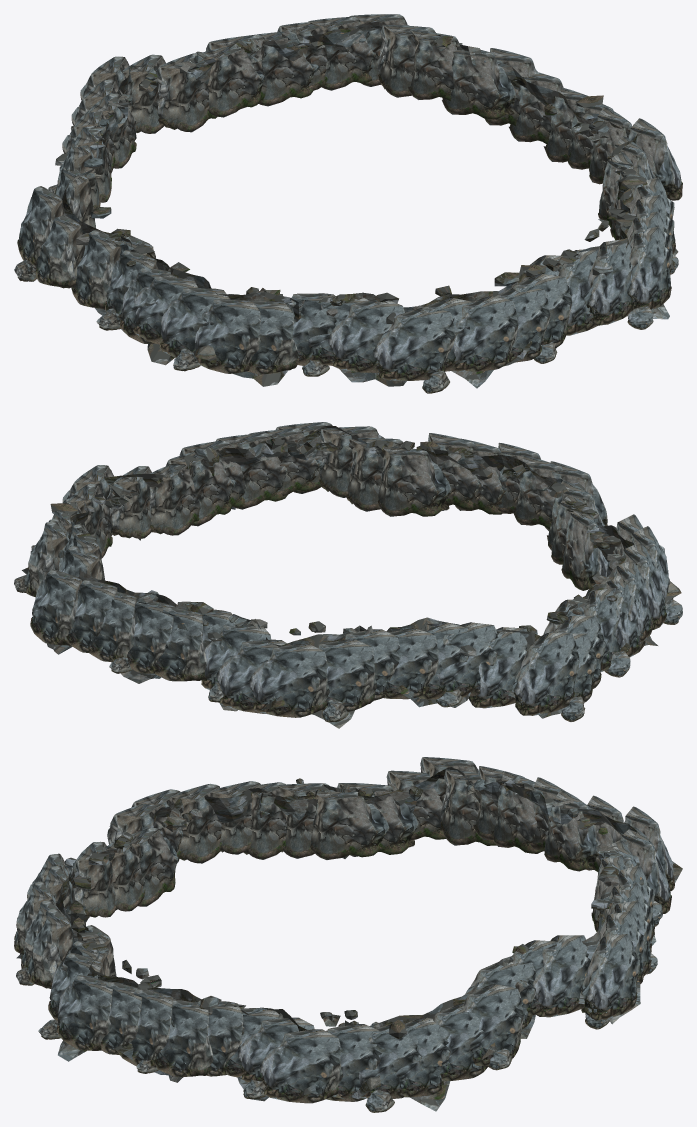
Rendered from ValoriaScannedCliffCandidate.glb.
3 renders of one model, top to bottom at view 1: azimuth 30°, elevation 25°; view 2: azimuth 150°, elevation 25°; view 3: azimuth 270°, elevation 25°, orthographic. The views are drawn at different scales.
Parts seen in each view (by area): view 1: Buried continuous cliff contact receiver - existing geometry, CC0 directed cliff course 36, CC0 directed cliff course 38, CC0 directed cliff course 31, CC0 directed cliff course 05, CC0 directed cliff course 35, CC0 directed cliff course 13, CC0 directed cliff course 14, CC0 directed cliff course 43, CC0 directed cliff course 44, CC0 directed cliff course 32, CC0 directed cliff course 30 (+38 smaller); view 2: Buried continuous cliff contact receiver - existing geometry, CC0 directed cliff course 16, CC0 directed cliff course 23, CC0 directed cliff course 41, CC0 directed cliff course 17, CC0 directed cliff course 08, CC0 directed cliff course 12, CC0 directed cliff course 49, CC0 directed cliff course 22, CC0 directed cliff course 19, CC0 directed cliff course 21, CC0 directed cliff course 15 (+36 smaller); view 3: Buried continuous cliff contact receiver - existing geometry, CC0 directed cliff course 51, CC0 directed cliff course 26, CC0 directed cliff course 08, CC0 directed cliff course 07, CC0 directed cliff course 04, CC0 directed cliff course 44, CC0 directed cliff course 47, CC0 directed cliff course 02, CC0 directed cliff course 18, CC0 directed cliff course 30, CC0 directed cliff course 22 (+37 smaller).
Boxes of the visible parts, x1,y1,x2,y2 form: Buried continuous cliff contact receiver - existing geometry: (36, 22, 679, 388); CC0 directed cliff course 36: (373, 308, 455, 380); CC0 directed cliff course 38: (452, 296, 518, 371); CC0 directed cliff course 31: (195, 299, 260, 373); CC0 directed cliff course 05: (442, 49, 515, 119); CC0 directed cliff course 35: (328, 299, 404, 372); CC0 directed cliff course 13: (194, 46, 265, 117); CC0 directed cliff course 14: (155, 53, 217, 132); CC0 directed cliff course 43: (584, 239, 635, 325); CC0 directed cliff course 44: (627, 226, 672, 310); CC0 directed cliff course 32: (247, 300, 298, 374); CC0 directed cliff course 30: (159, 287, 229, 357); Buried continuous cliff contact receiver - existing geometry: (22, 426, 681, 728); CC0 directed cliff course 16: (249, 644, 329, 717); CC0 directed cliff course 23: (512, 632, 579, 715); CC0 directed cliff course 41: (377, 446, 451, 516); CC0 directed cliff course 17: (318, 639, 376, 711); CC0 directed cliff course 08: (30, 569, 81, 645); CC0 directed cliff course 12: (154, 606, 206, 681); CC0 directed cliff course 49: (149, 463, 200, 535); CC0 directed cliff course 22: (468, 627, 527, 708); CC0 directed cliff course 19: (383, 628, 438, 699); CC0 directed cliff course 21: (437, 622, 497, 697); CC0 directed cliff course 15: (216, 639, 286, 713); Buried continuous cliff contact receiver - existing geometry: (16, 767, 682, 1111); CC0 directed cliff course 51: (259, 1029, 343, 1103); CC0 directed cliff course 26: (310, 790, 389, 859); CC0 directed cliff course 08: (581, 934, 639, 1020); CC0 directed cliff course 07: (532, 935, 590, 1017); CC0 directed cliff course 04: (462, 984, 523, 1066); CC0 directed cliff course 44: (56, 975, 112, 1050); CC0 directed cliff course 47: (154, 999, 213, 1076); CC0 directed cliff course 02: (396, 1017, 450, 1097); CC0 directed cliff course 18: (544, 789, 599, 871); CC0 directed cliff course 30: (172, 783, 221, 863); CC0 directed cliff course 22: (440, 769, 496, 845).
Bounding box in the file's own units: 91.15 × 17.49 × 88.51.
Materials: 1 (1 with a texture image).
